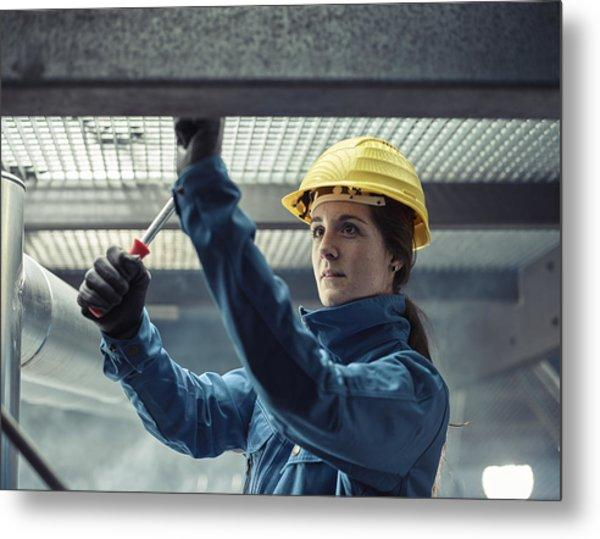helmet: (284, 137, 432, 249)
